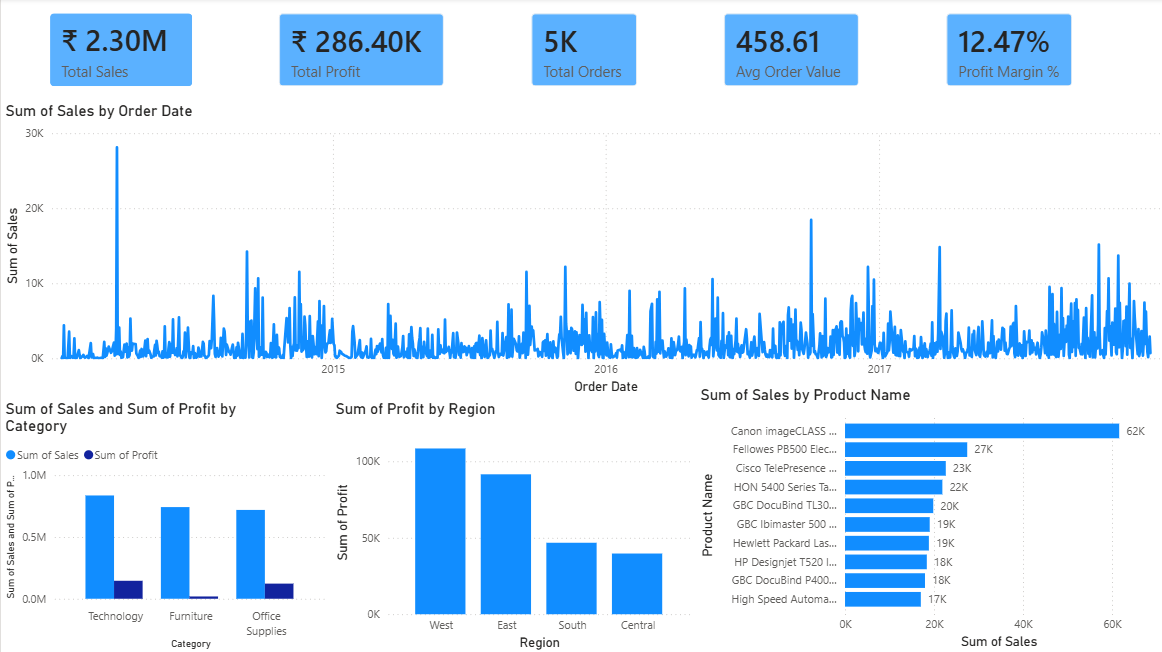

What the dashboard file says about the page in this screenshot:
{"tool":"powerbi","page":{"name":"Page 1","canvas":[1280,720],"ordinal":0},"visuals":[{"type":"lineChart","fields":{"Y":["Sum(cleaned_superstore.Sales)"],"Category":["cleaned_superstore.Order Date"]},"box":[0,114.3,1280,325.7],"z":0},{"type":"clusteredColumnChart","fields":{"Category":["cleaned_superstore.Category"],"Y":["Sum(cleaned_superstore.Sales)","Sum(cleaned_superstore.Profit)"]},"box":[0,440,362.9,280],"z":1000},{"type":"clusteredColumnChart","fields":{"Category":["cleaned_superstore.Region"],"Y":["Sum(cleaned_superstore.Profit)"]},"box":[362.9,440,400,280],"z":3000},{"type":"cardVisual","fields":{"Data":["cleaned_superstore.Total Sales"]},"box":[37.1,0,190,114.3],"z":4000},{"type":"cardVisual","fields":{"Data":["cleaned_superstore.Total Profit"]},"box":[288.6,0,215.7,114.3],"z":5000},{"type":"cardVisual","fields":{"Data":["cleaned_superstore.Total Orders"]},"box":[565.7,0,150,114.3],"z":6000},{"type":"cardVisual","fields":{"Data":["cleaned_superstore.Avg Order Value"]},"box":[777.1,0,182.9,114.3],"z":7000},{"type":"cardVisual","fields":{"Data":["cleaned_superstore.Profit Margin %"]},"box":[1021.4,0,172.9,114.3],"z":8000},{"type":"clusteredBarChart","fields":{"Category":["cleaned_superstore.Product Name"],"Y":["Sum(cleaned_superstore.Sales)"]},"box":[762.9,425.7,517.1,294.3],"z":8500}]}

Visuals, with their boxes in screenshot pixels (x1, y1, x2, y2), scaled from the page's 1280x720 canvas onto the 1162x652 screenshot:
lineChart - Sum(cleaned_superstore.Sales) x cleaned_superstore.Order Date: (0,104,1161,398)
clusteredColumnChart - cleaned_superstore.Category x Sum(cleaned_superstore.Sales): (0,398,329,651)
clusteredColumnChart - cleaned_superstore.Region x Sum(cleaned_superstore.Profit): (329,398,693,651)
cardVisual - cleaned_superstore.Total Sales: (34,0,206,104)
cardVisual - cleaned_superstore.Total Profit: (262,0,458,104)
cardVisual - cleaned_superstore.Total Orders: (514,0,650,104)
cardVisual - cleaned_superstore.Avg Order Value: (705,0,872,104)
cardVisual - cleaned_superstore.Profit Margin %: (927,0,1084,104)
clusteredBarChart - cleaned_superstore.Product Name x Sum(cleaned_superstore.Sales): (693,385,1161,651)
